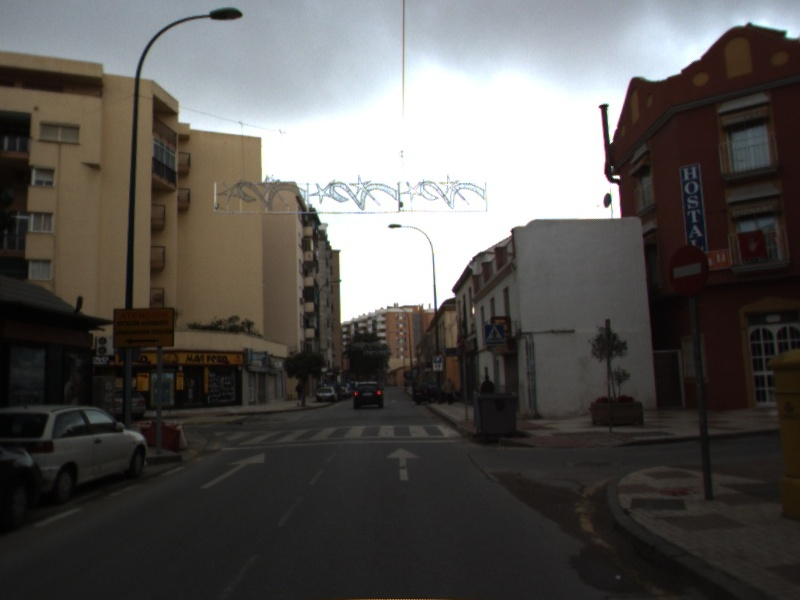STRAIGHT: (197, 451, 267, 491), (384, 446, 421, 482)
